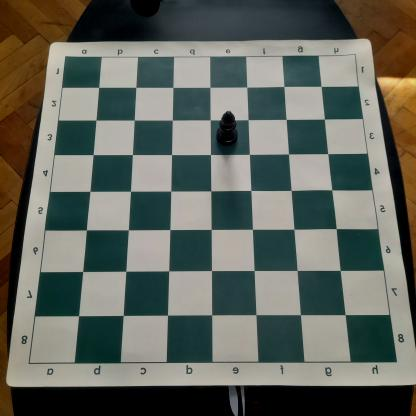black-bishop: (216, 110, 238, 145)
